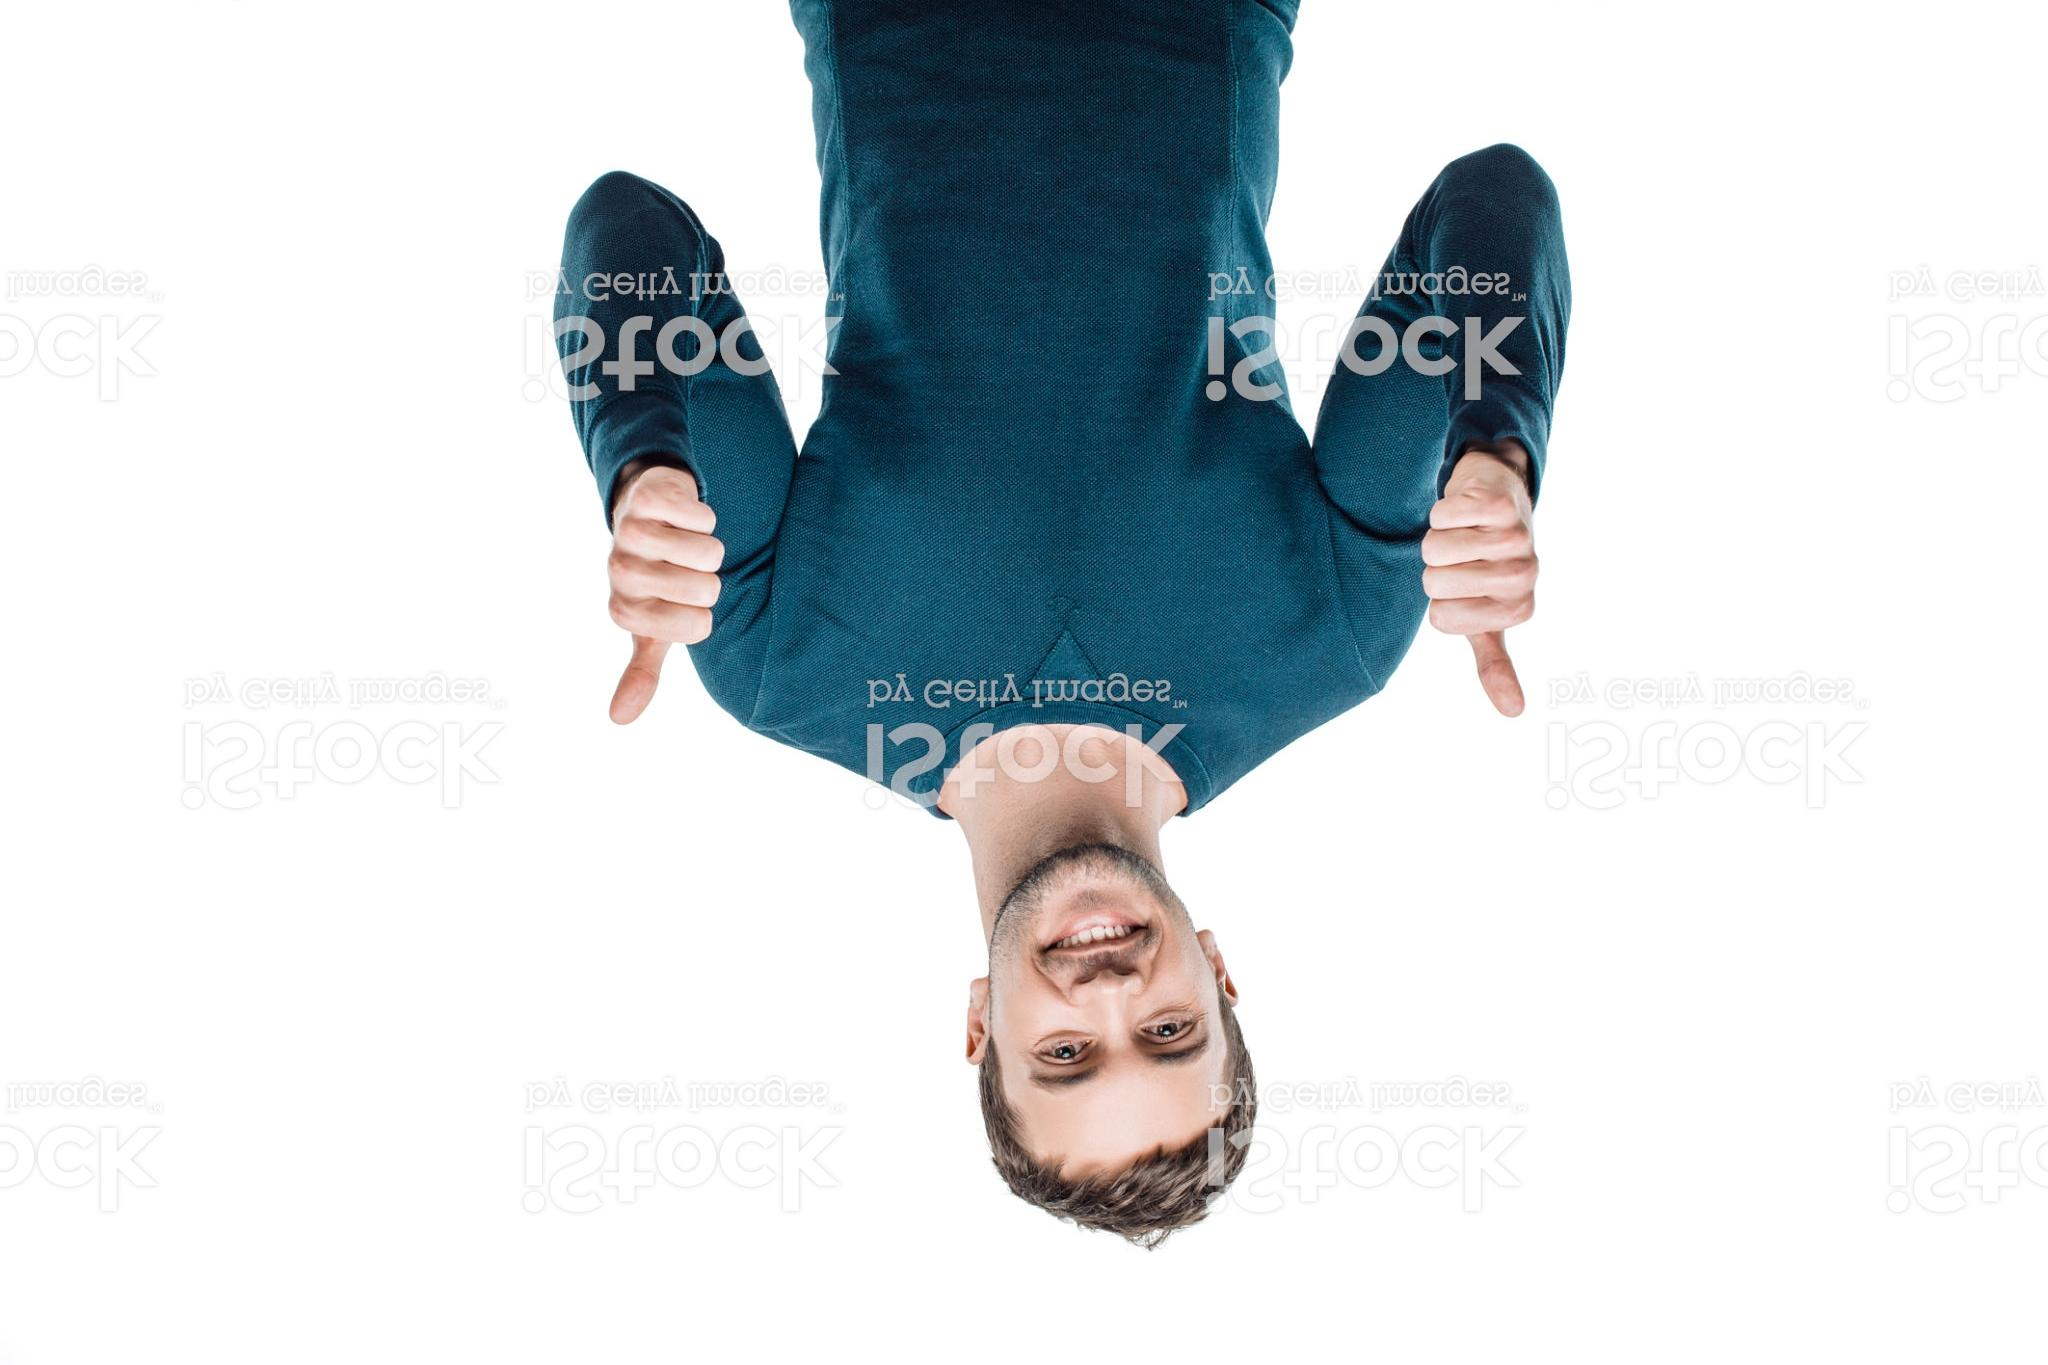thumbsdown: (601, 471, 729, 730), (1416, 465, 1541, 721)
